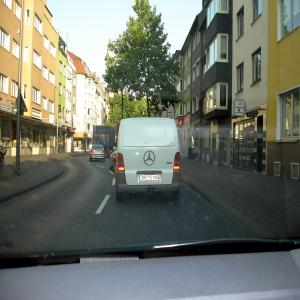Vehicle-registration-plate: (140, 175, 161, 182)
